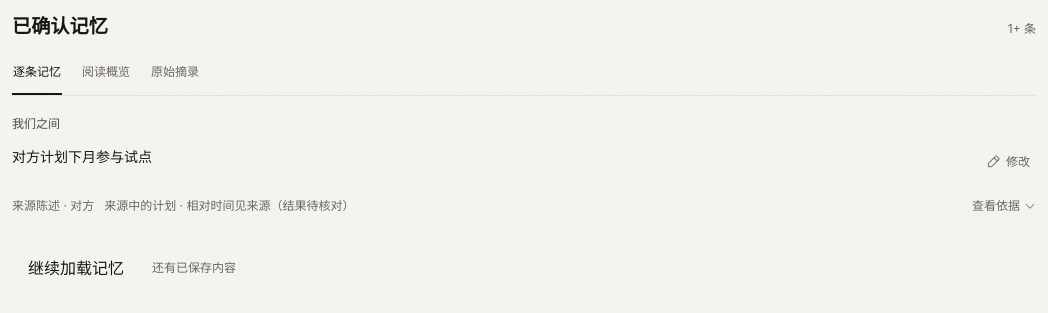
Test: person document interactions › does not describe unreadable memory as empty in 阅读概览
Click the button "阅读概览": point(106, 73) [81, 51, 131, 95]
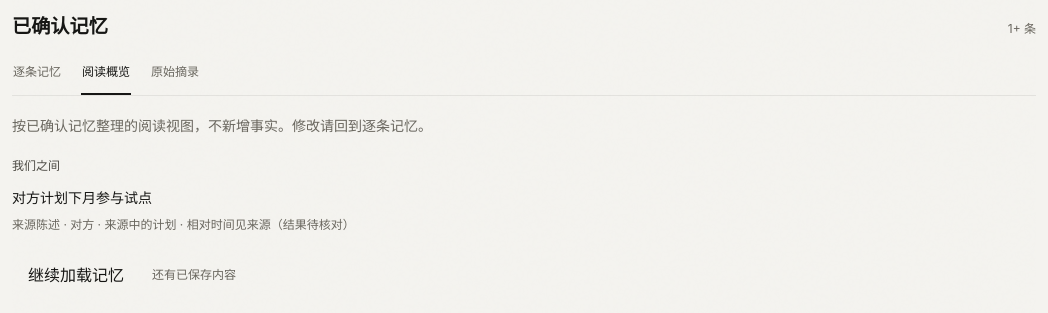
Click the button "继续加载记忆": point(76, 275) [12, 253, 140, 297]
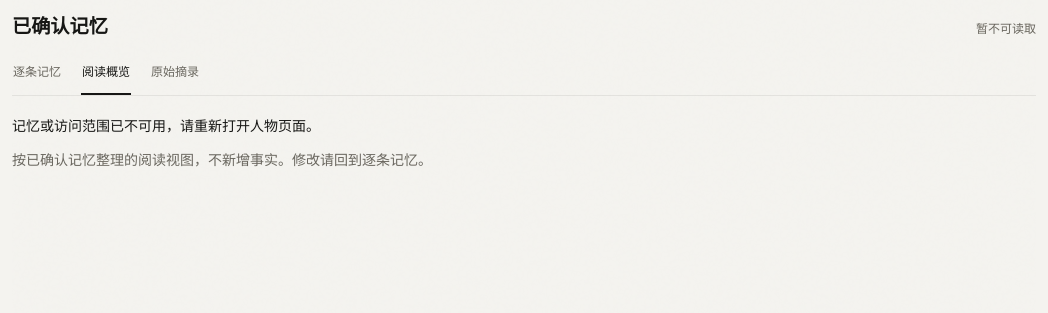
Expected: the message "记忆或访问范围已不可用，请重新打开人物页面。" is shown, [12, 117, 320, 134]
